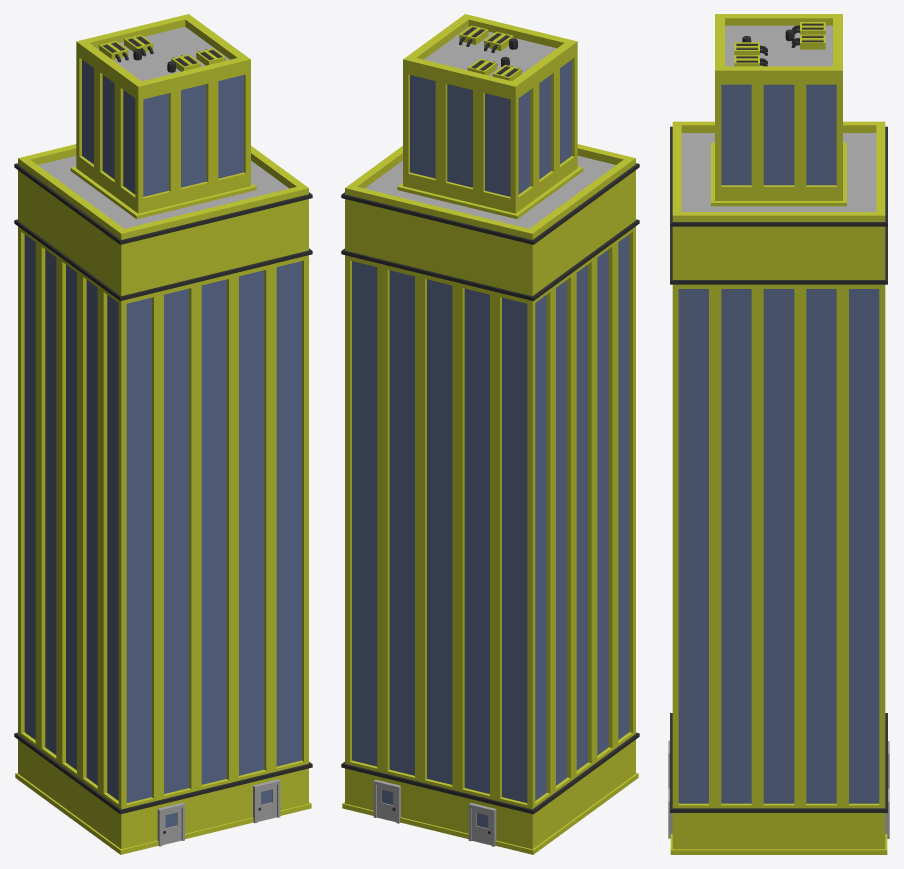
Rendered from SquareTwoLevel.fbx.
3 renders of one model, left to right at view 1: azimuth 30°, elevation 25°; view 2: azimuth 150°, elevation 25°; view 3: azimuth 270°, elevation 25°, orthographic. The views are drawn at different scales.
Parts seen in each view (by area): view 1: Building13_1.007; view 2: Building13_1.007; view 3: Building13_1.007.
Boxes of the visible parts, <box> form: Building13_1.007: <box>14,14,312,854</box>; Building13_1.007: <box>341,14,639,854</box>; Building13_1.007: <box>668,14,889,854</box>.
Size of the model in its own units: 706 by 2613 by 685.
